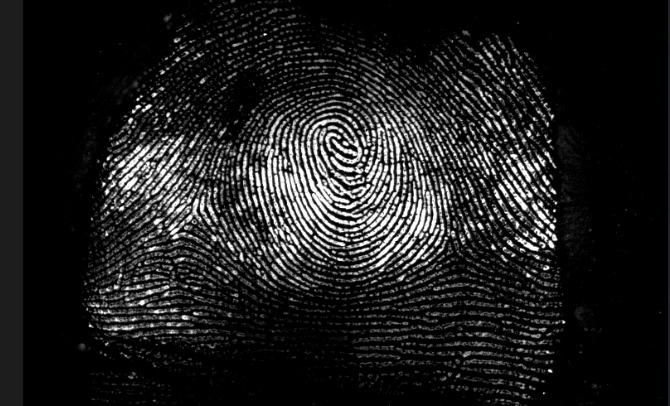deltas: (433, 226, 480, 277), (170, 193, 217, 240)
nucleo: (317, 121, 366, 166)
